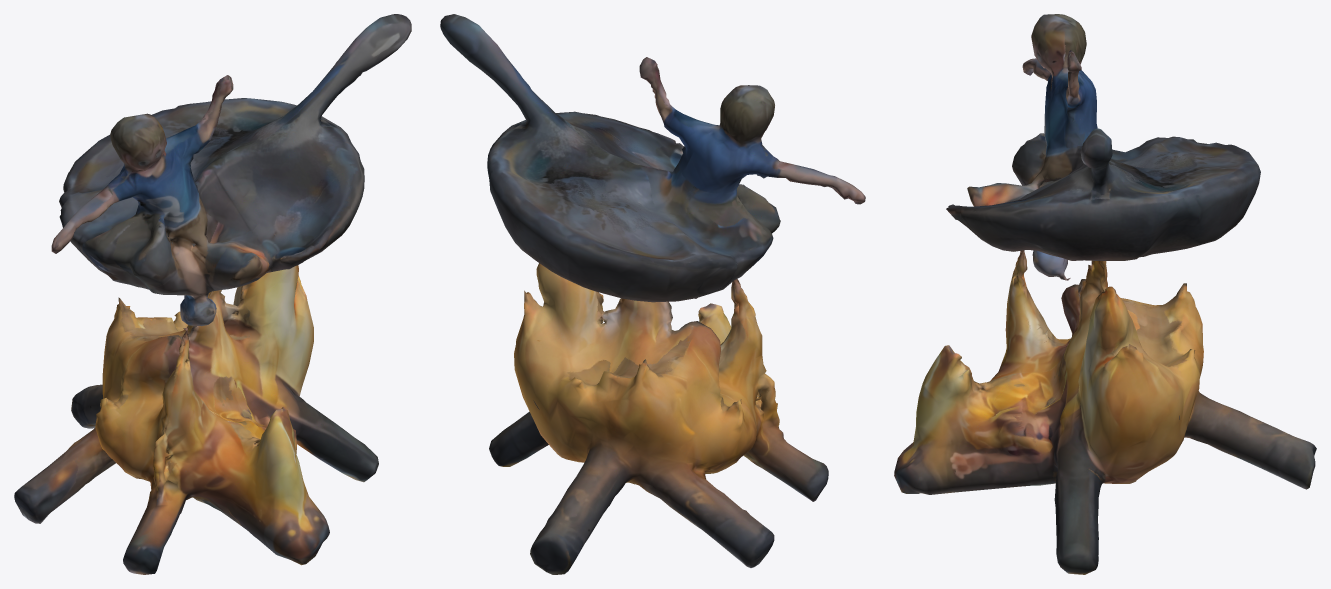
The model's file is 01913418-c5df-7a65-9a53-ef28f8b59140_glb.glb.
The picture shows the model from 3 angles, left to right: view 1: azimuth 30°, elevation 25°; view 2: azimuth 150°, elevation 25°; view 3: azimuth 270°, elevation 25°; orthographic projection. The views are drawn at different scales.
Bounding box in the file's own units: 1.1 × 1.2 × 0.9921.
1 material, 1 textured.
